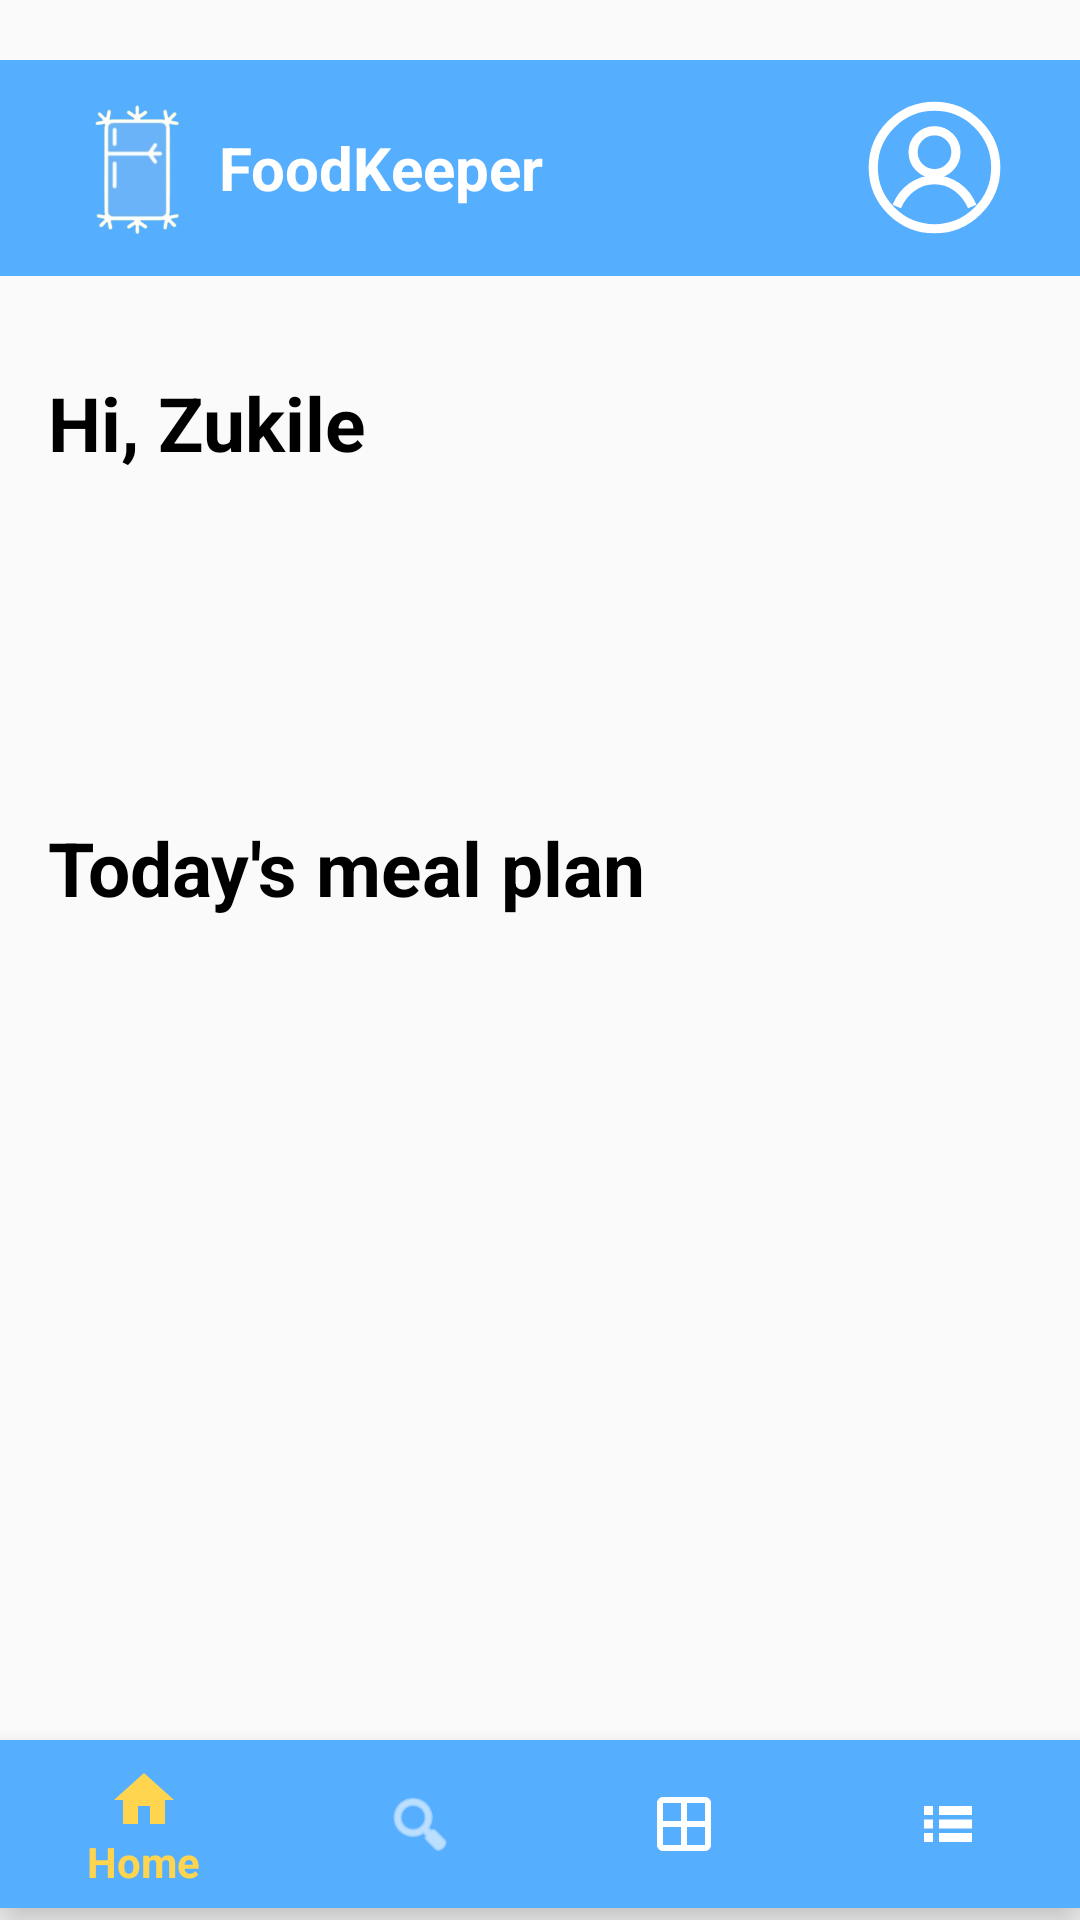

Icons on this 1080px x 1920px Android screen, each with its box as (x1, y1, x2, y2):
Profile: (868, 101, 1001, 234)
